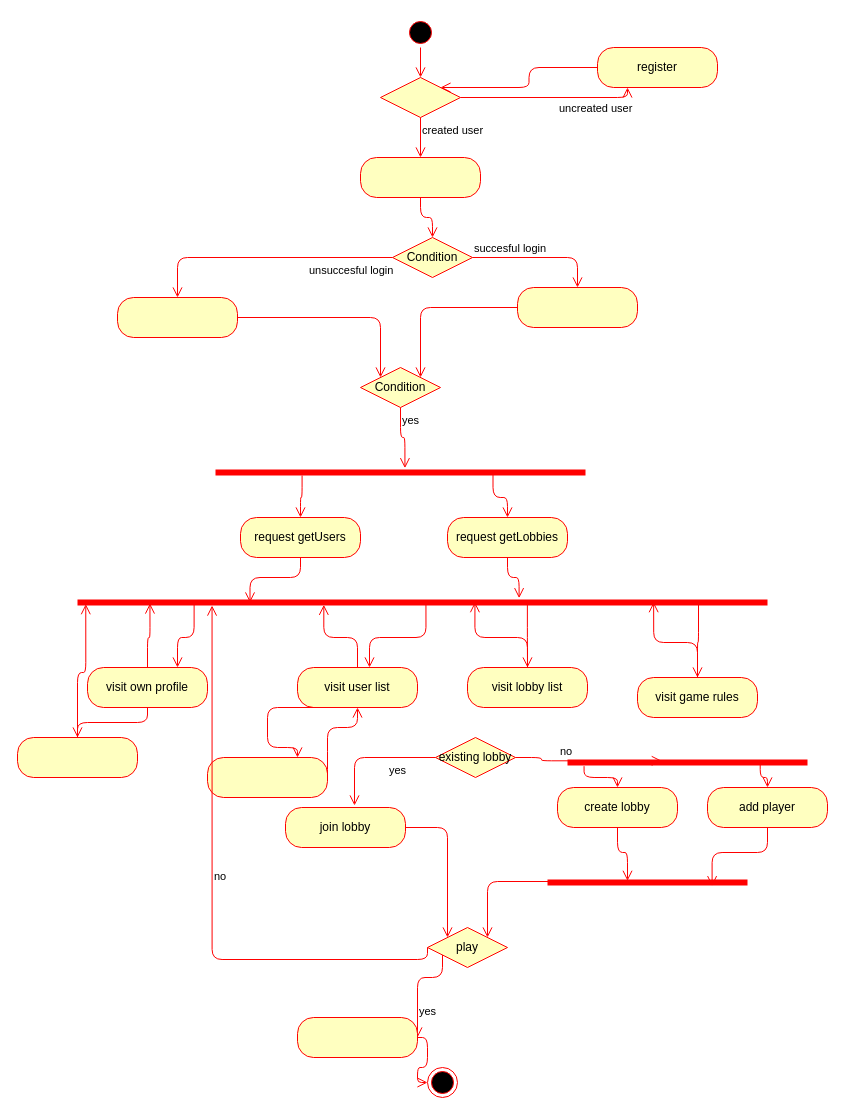
This 845x1115 diagram has some shape labels left out. The centre of each missing label's shape, as x and y in pixels:
edit profile: (77,757)
existing user: (420,97)
launch dashboard: (577,307)
login: (420,177)
repeat login: (177,317)
start game: (357,1037)
visit user profile: (267,777)
